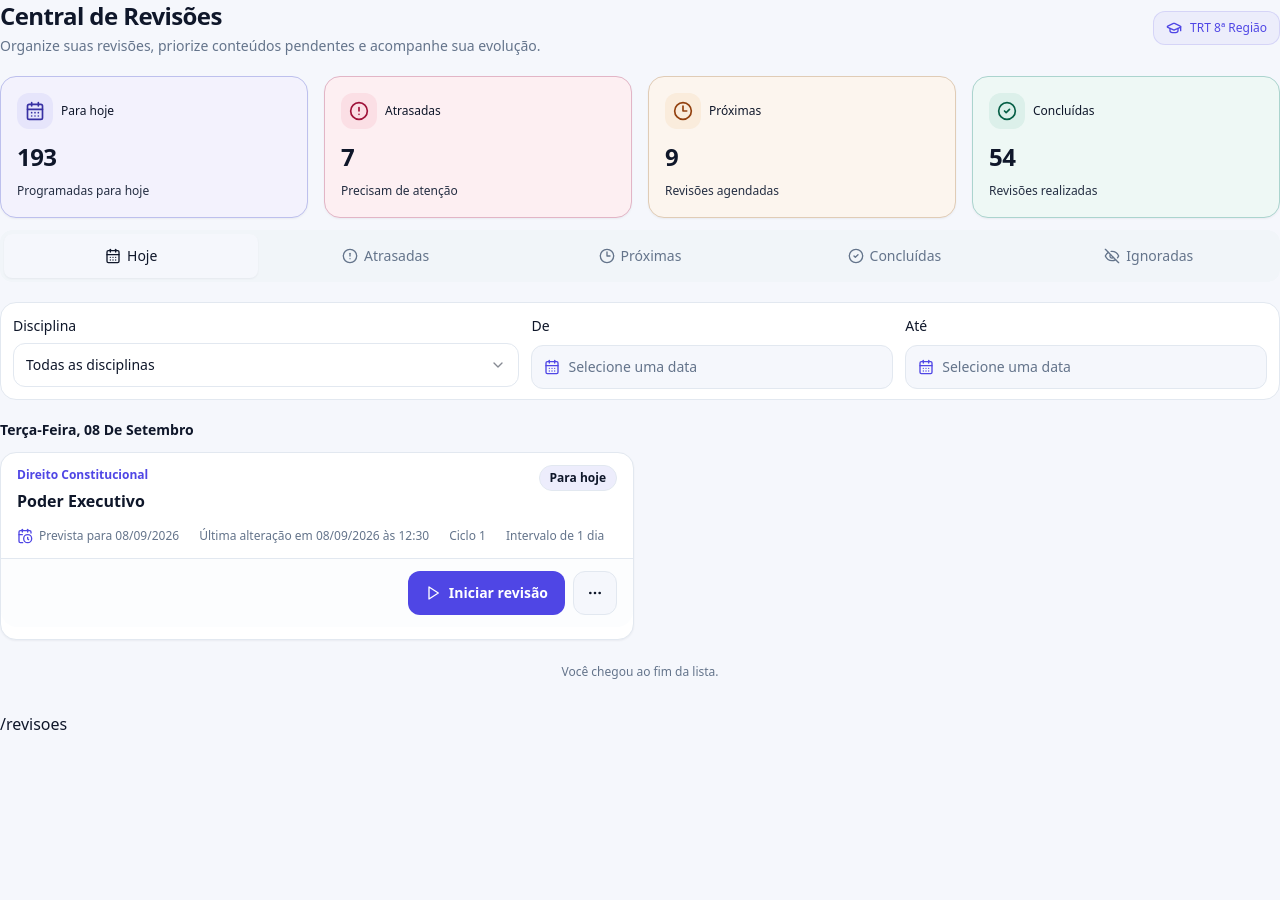
Scenario: Revisoes › mostra totais agregados e atualiza os indicadores após ignorar
The width and height of the screenshot is (1280, 900).
Check: the text "193" is shown, box [17,140,56,173]
Click the button named "Mais ações para Poder Executivo". click: (595, 592)
box: [573,570,617,614]
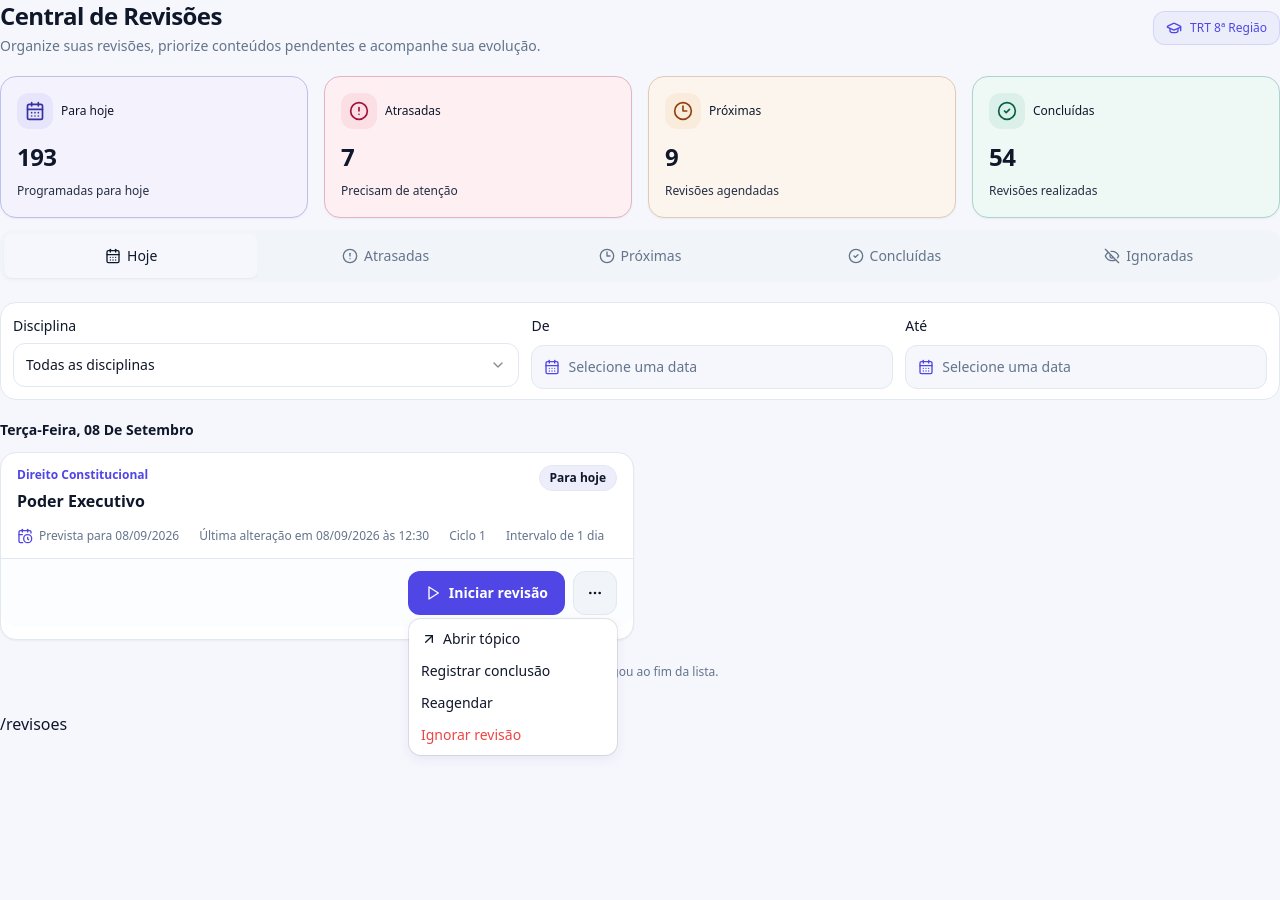
Click the menu item "Ignorar revisão". click: (471, 734)
box: [421,725,521,744]
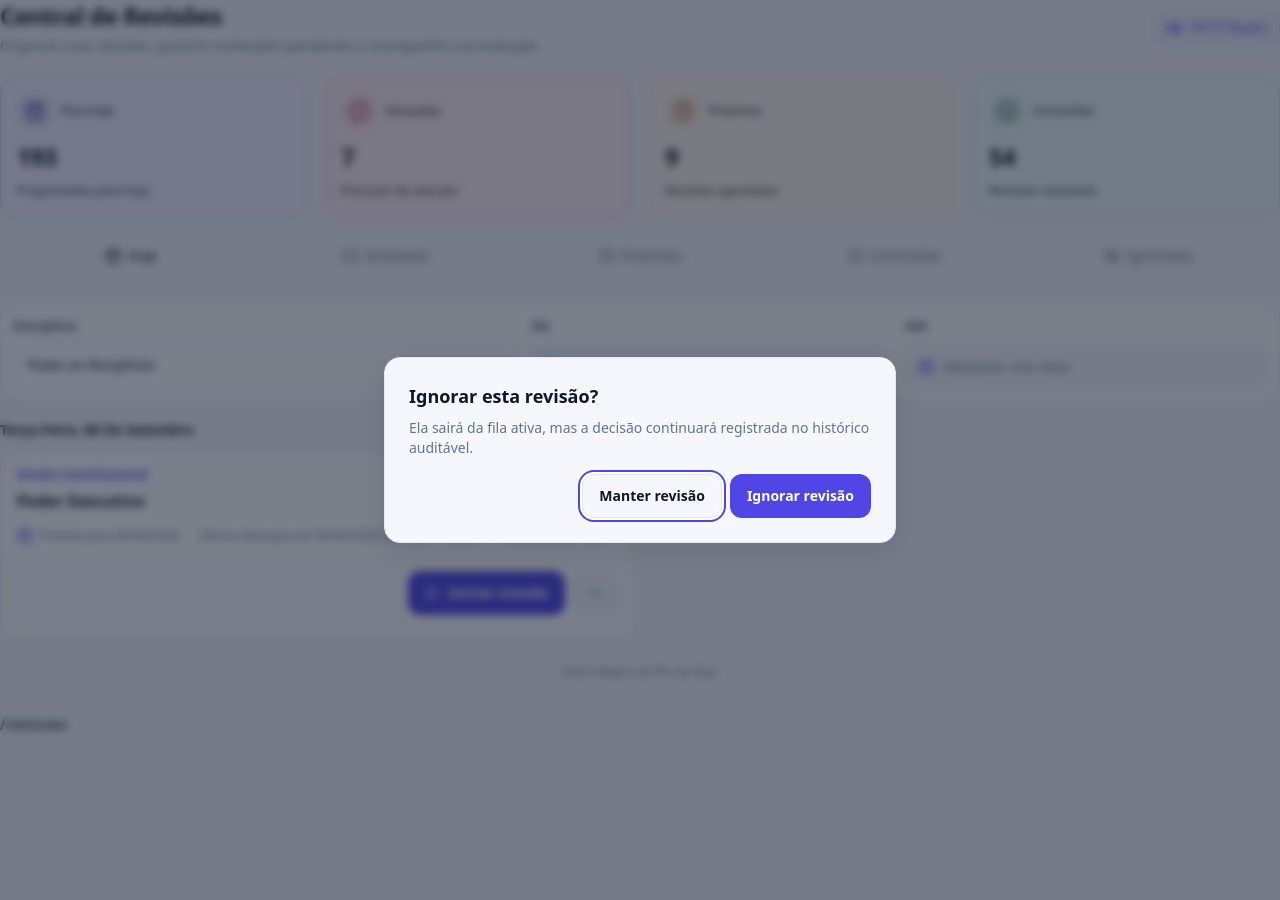
Click the button "Ignorar revisão". click: (800, 496)
box: [730,474,871,518]
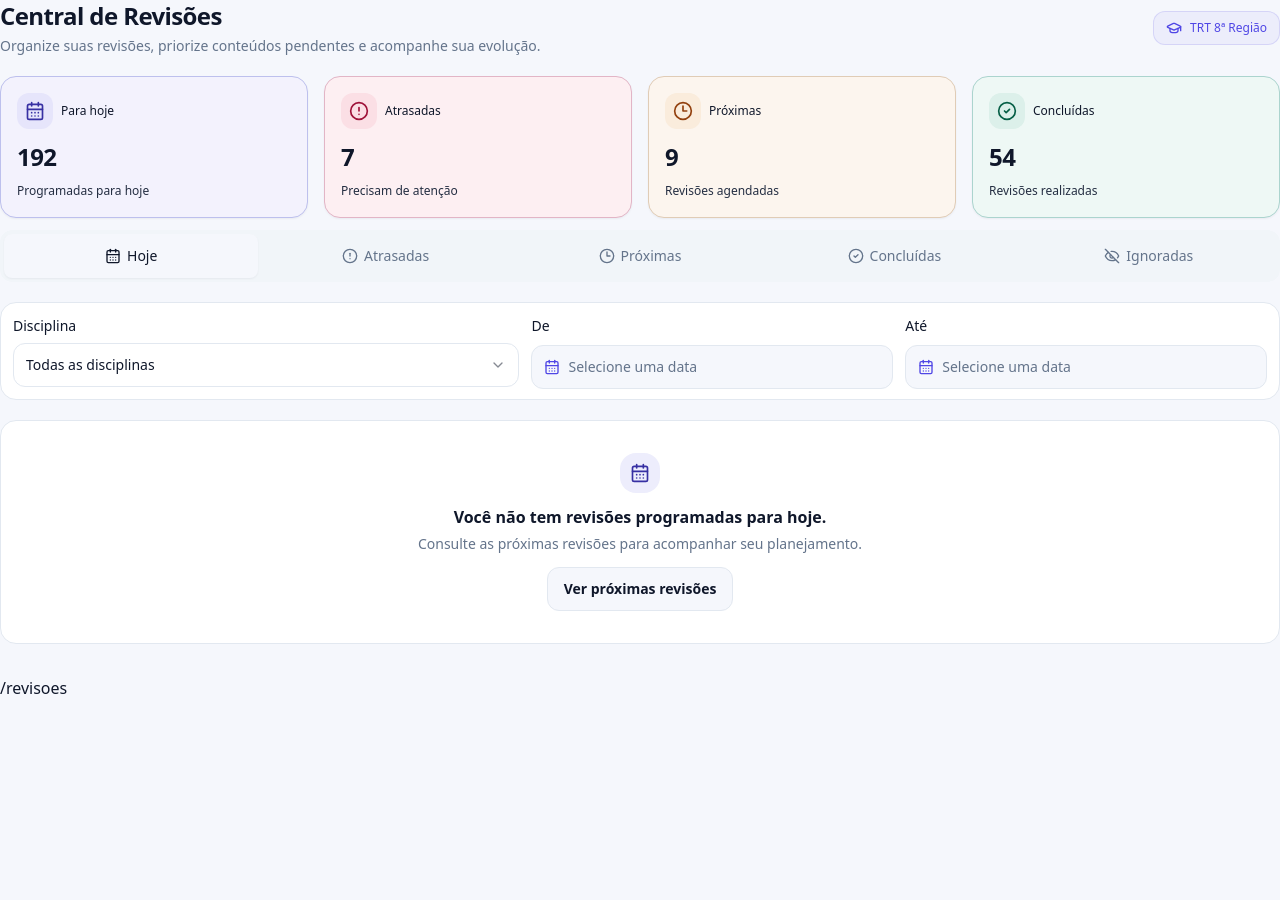
Check: the text "192" is shown, box [17,140,56,173]
Check: the text "Poder Executivo" is gone
